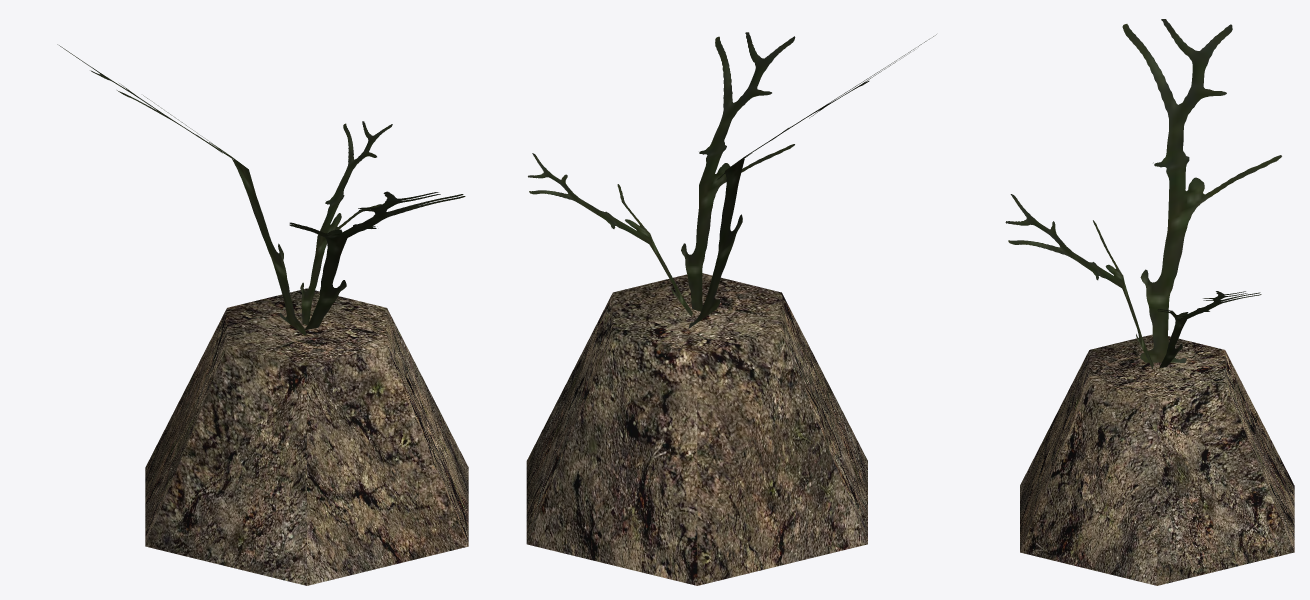
File: GS_NATURE_PUMPKIN_01_GALI.glb
3 views of the same model, side by side, from view 1: azimuth 30°, elevation 25°; view 2: azimuth 150°, elevation 25°; view 3: azimuth 270°, elevation 25° (orthographic). The views are drawn at different scales.
Visible parts, largest first — view 1: Mesh; view 2: Mesh; view 3: Mesh.
Boxes of the visible parts, x1=… form: Mesh: x1=57, y1=44, x2=468, y2=585; Mesh: x1=526, y1=32, x2=936, y2=585; Mesh: x1=1005, y1=19, x2=1294, y2=585.
Bounding box in the file's own units: 0.4109 × 0.5018 × 0.3246.
Materials: 2 (2 with a texture image).
